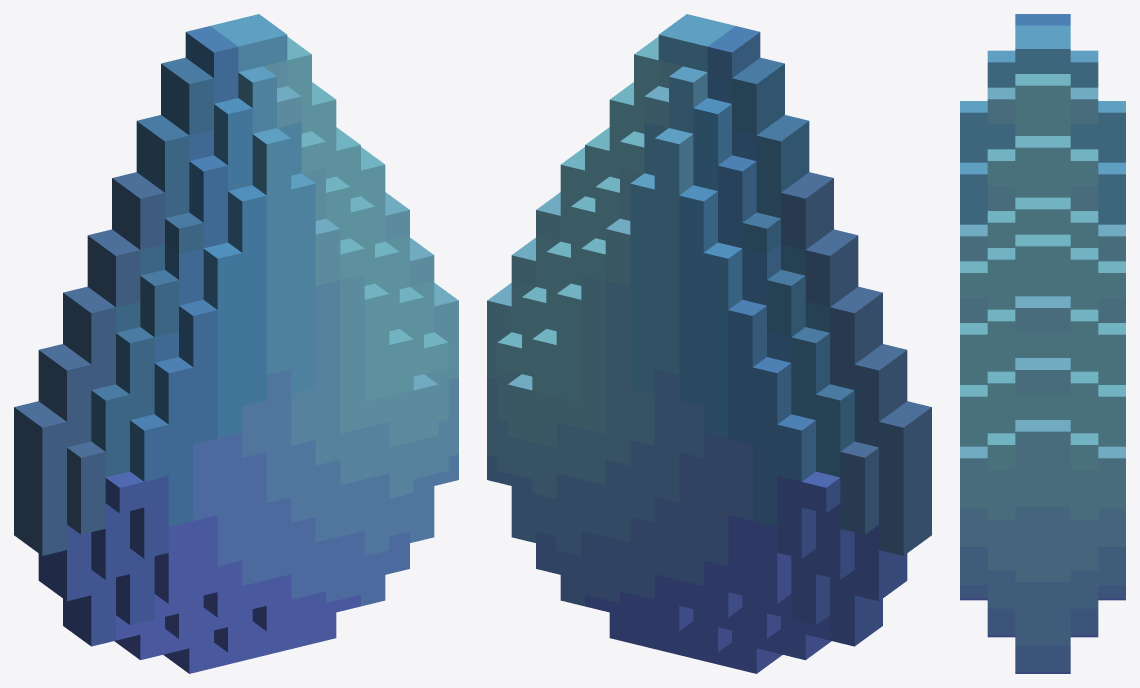
The model's file is droplet.glb.
3 renders of one model, left to right at view 1: azimuth 30°, elevation 25°; view 2: azimuth 150°, elevation 25°; view 3: azimuth 270°, elevation 25°, orthographic. The views are drawn at different scales.
Visible parts, largest first — view 1: prop; view 2: prop; view 3: prop.
Boxes of the visible parts, <box> form: prop: <box>14,14,458,673</box>; prop: <box>487,14,931,673</box>; prop: <box>960,14,1125,673</box>.
Bounding box in the file's own units: 11.33 × 16 × 4.
